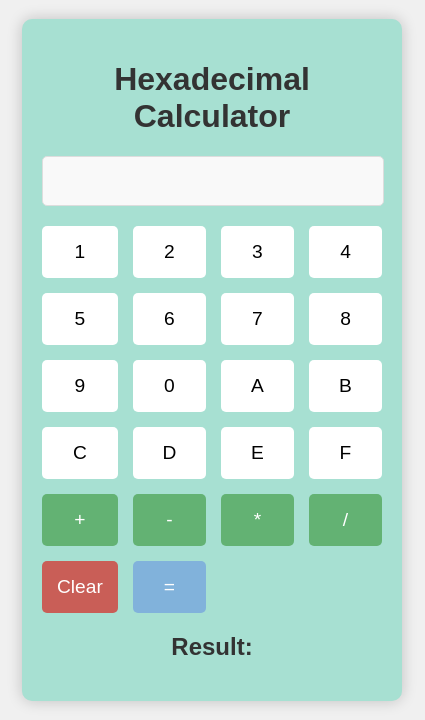
template spec › Multiplication1
The width and height of the screenshot is (425, 720).
Click the button "A" at (258, 386), box top-left (221, 360), bottom-right (294, 412)
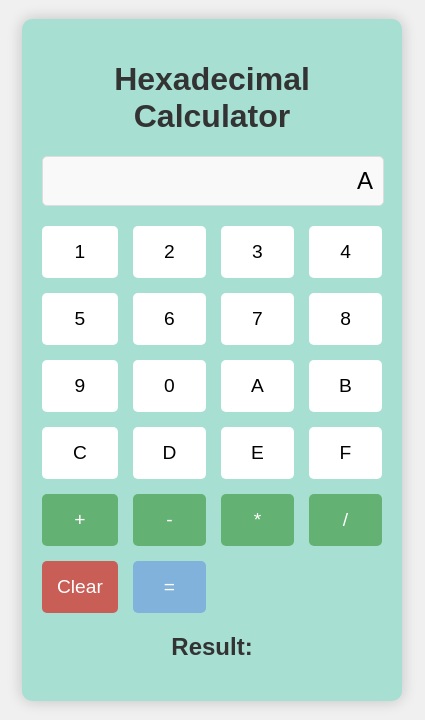
Click the button "*" at (258, 520), box top-left (221, 494), bottom-right (294, 546)
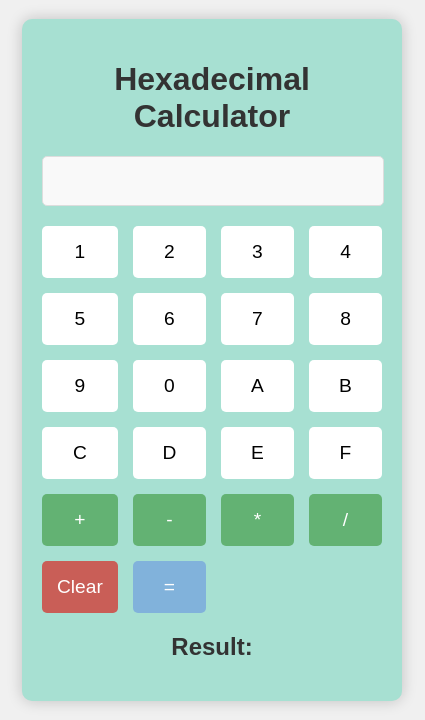
Click the button "2" at (170, 252), box top-left (133, 226), bottom-right (206, 278)
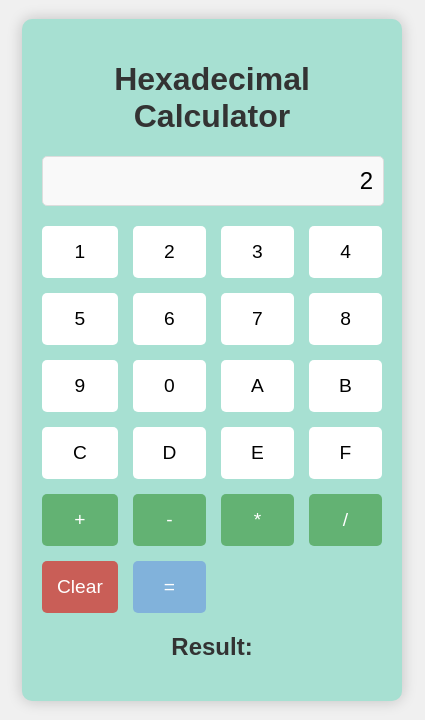
Click the button "=" at (170, 587), box top-left (133, 561), bottom-right (206, 613)
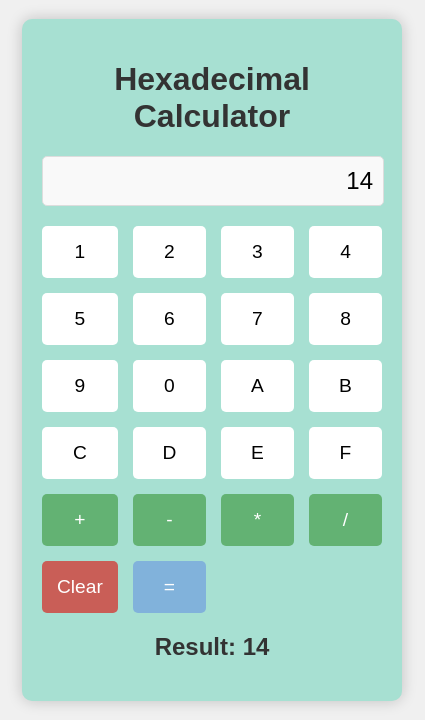
Expected: the field holds "14", top-left (42, 156), bottom-right (384, 206)
